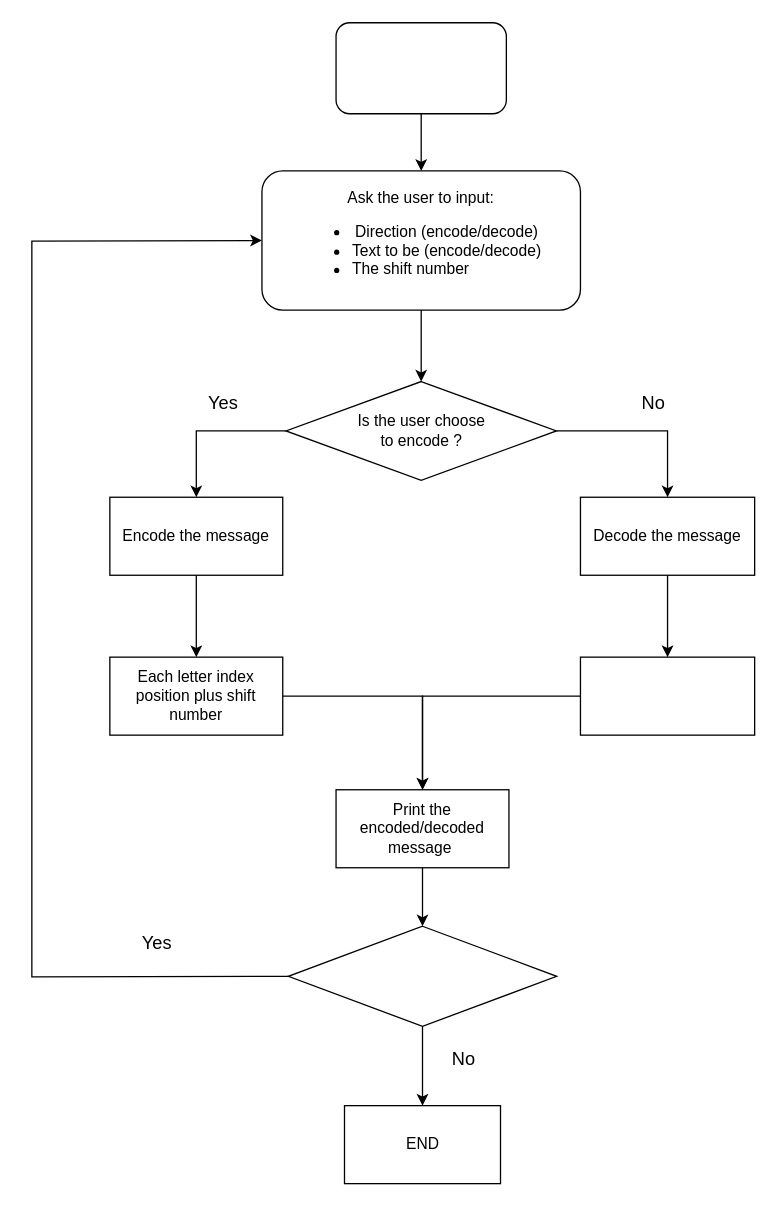
Image size: 777x1206. Some labels were removed from this diagram. The centre of each missing label's shape, as x and y in pixels:
"Ask the user if they want to continue" belongs at (422,975).
"Each letter index position minus shift number" belongs at (667,695).
"START" belongs at (420,67).
